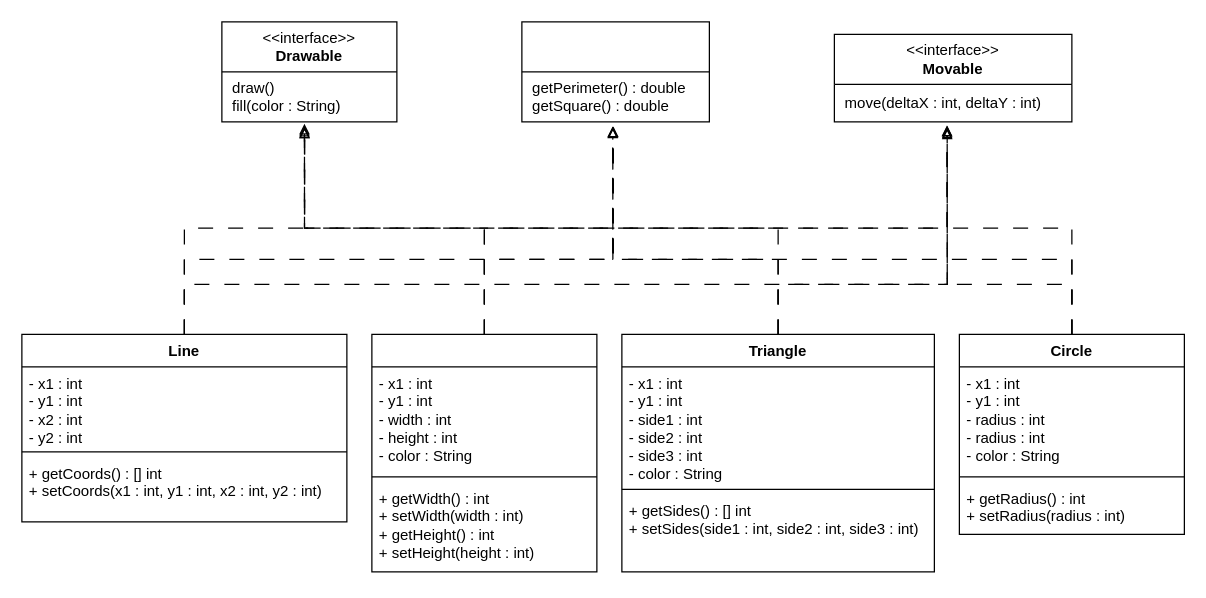
Image size: 1206x598. Some labels were removed from this diagram. Each missing label, with the box of its shape:
<<interface>> Geometric Object: (521, 21, 709, 122)
Rectangle: (371, 333, 597, 572)
